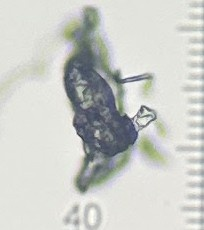microplastic: (64, 5, 156, 193), (137, 135, 167, 169), (140, 73, 156, 107), (153, 119, 170, 143)
